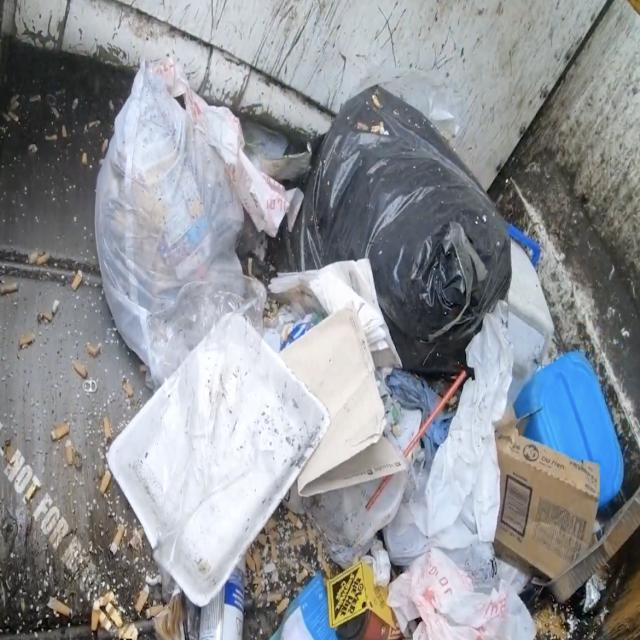bag: (85, 58, 320, 392), (296, 64, 528, 368)
cardboard: (480, 420, 640, 623)
paper: (106, 315, 424, 573)
